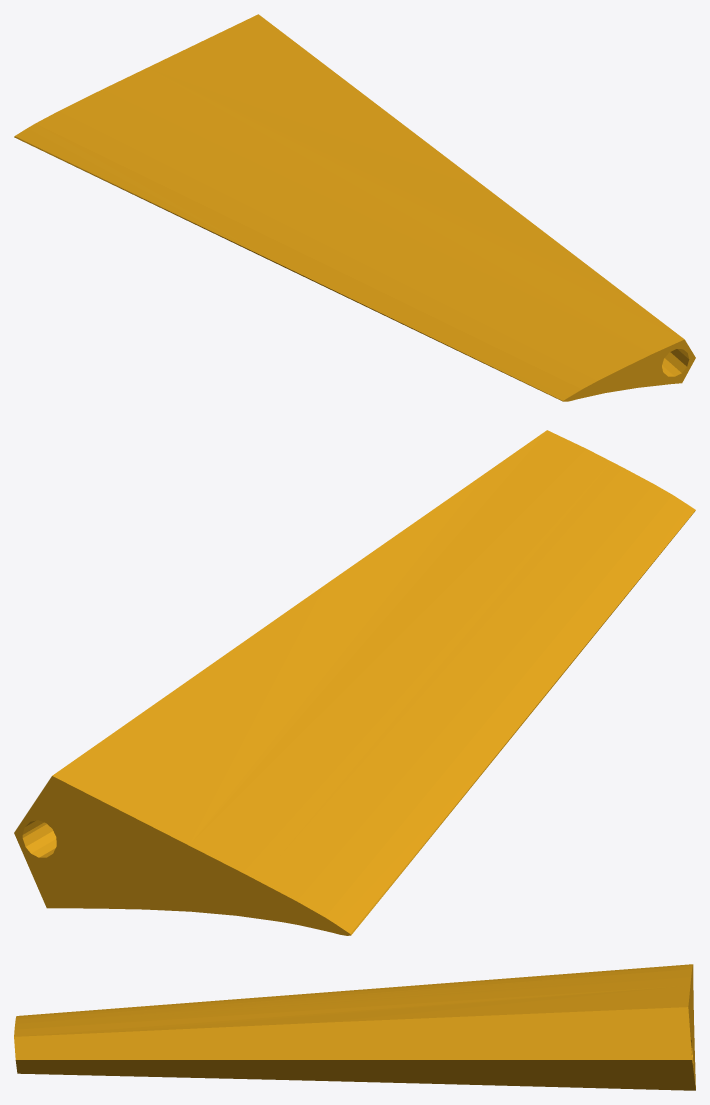
File: aileronR_yellow.dae
3 views of the same model, one above another, from view 1: azimuth 30°, elevation 25°; view 2: azimuth 150°, elevation 25°; view 3: azimuth 270°, elevation 25° (orthographic). The views are drawn at different scales.
Parts seen in each view (by area): view 1: Aileron_R; view 2: Aileron_R; view 3: Aileron_R.
Boxes of the visible parts, x1,y1,x2,y2 form: Aileron_R: (14,14,695,401); Aileron_R: (14,430,695,935); Aileron_R: (14,964,695,1090).
Size of the model in its own units: 0.0393 by 0.1048 by 0.0142.
